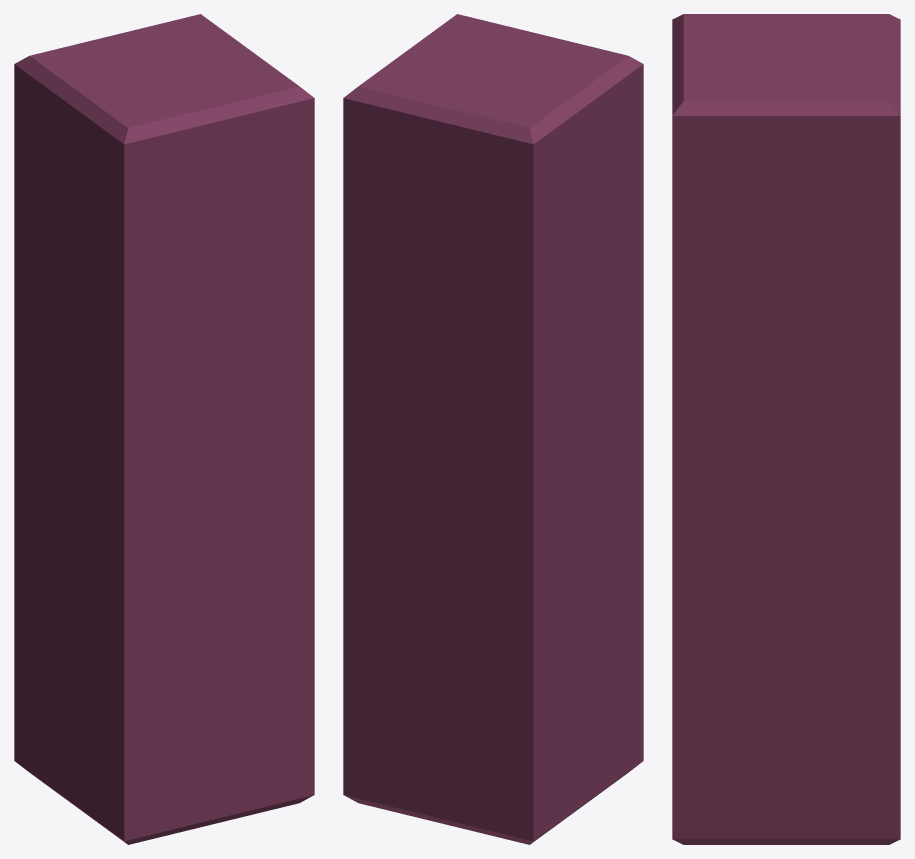
File: Pillar_Model_v03.fbx
The picture shows the model from 3 angles, left to right: view 1: azimuth 30°, elevation 25°; view 2: azimuth 150°, elevation 25°; view 3: azimuth 270°, elevation 25°; orthographic projection. The views are drawn at different scales.
Parts seen in each view (by area): view 1: pCube1; view 2: pCube1; view 3: pCube1.
Boxes of the visible parts, <box> form: pCube1: <box>14,14,314,844</box>; pCube1: <box>343,14,643,844</box>; pCube1: <box>672,14,900,844</box>.
Size of the model in its own units: 100 by 360 by 100.
1 material, 1 textured.
